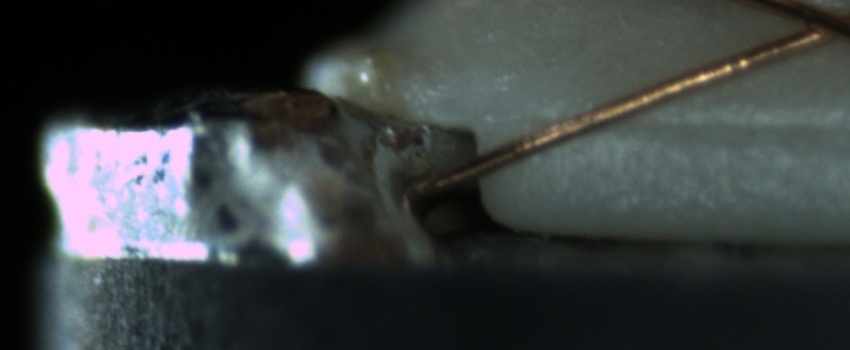CL: (773, 4, 849, 53)
DL: (553, 91, 845, 160)
